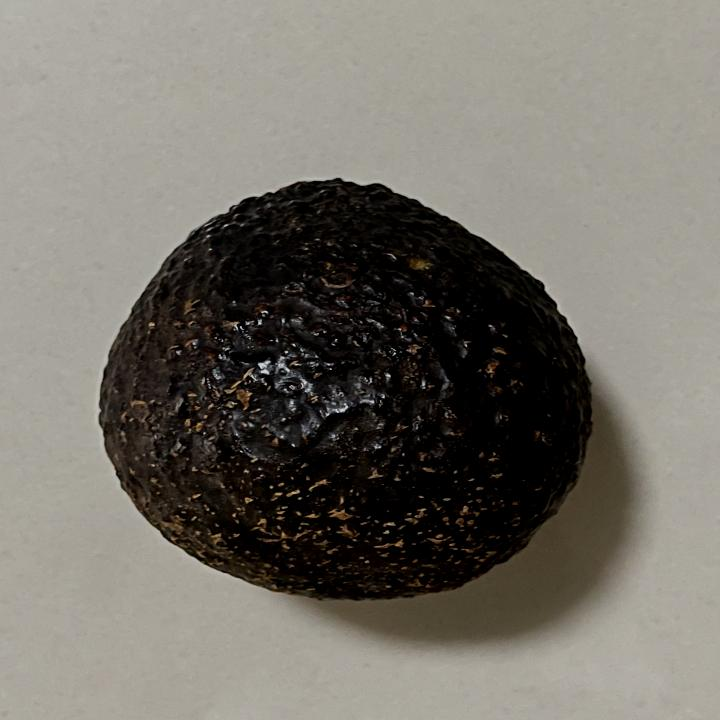Level2: (90, 170, 604, 606)
